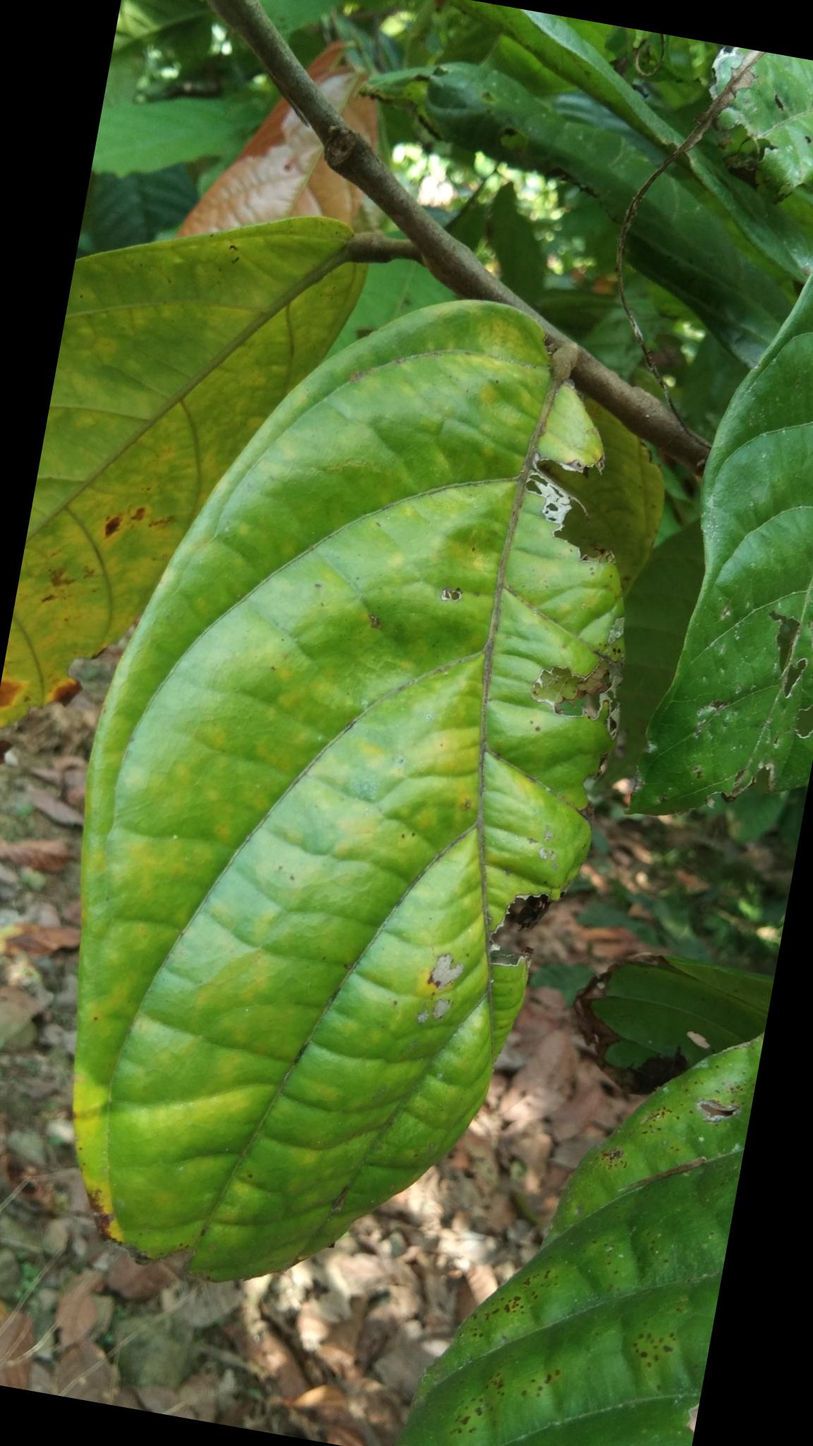Fosforo: (81, 260, 639, 1294), (0, 218, 363, 726)
